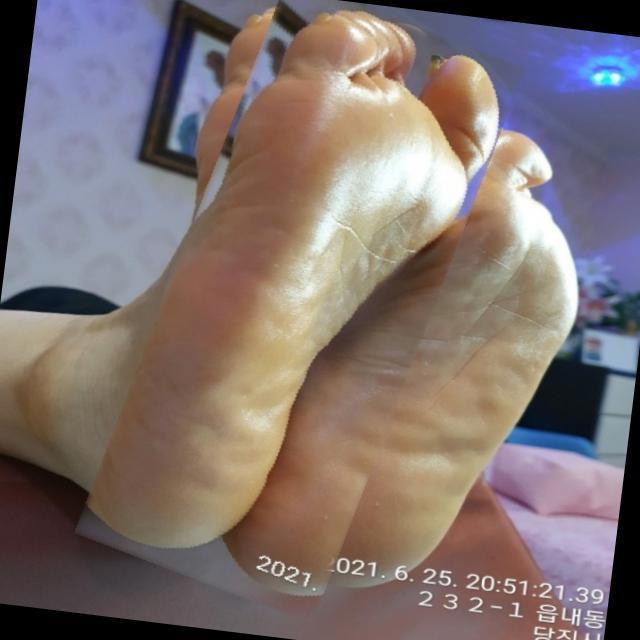No_Shoes: (86, 10, 500, 547), (256, 129, 592, 595)
